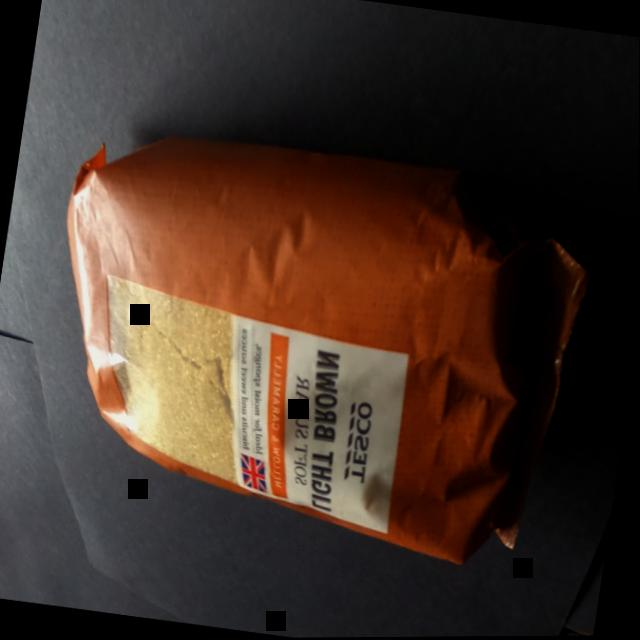Brownsugar: (12, 94, 605, 599)
